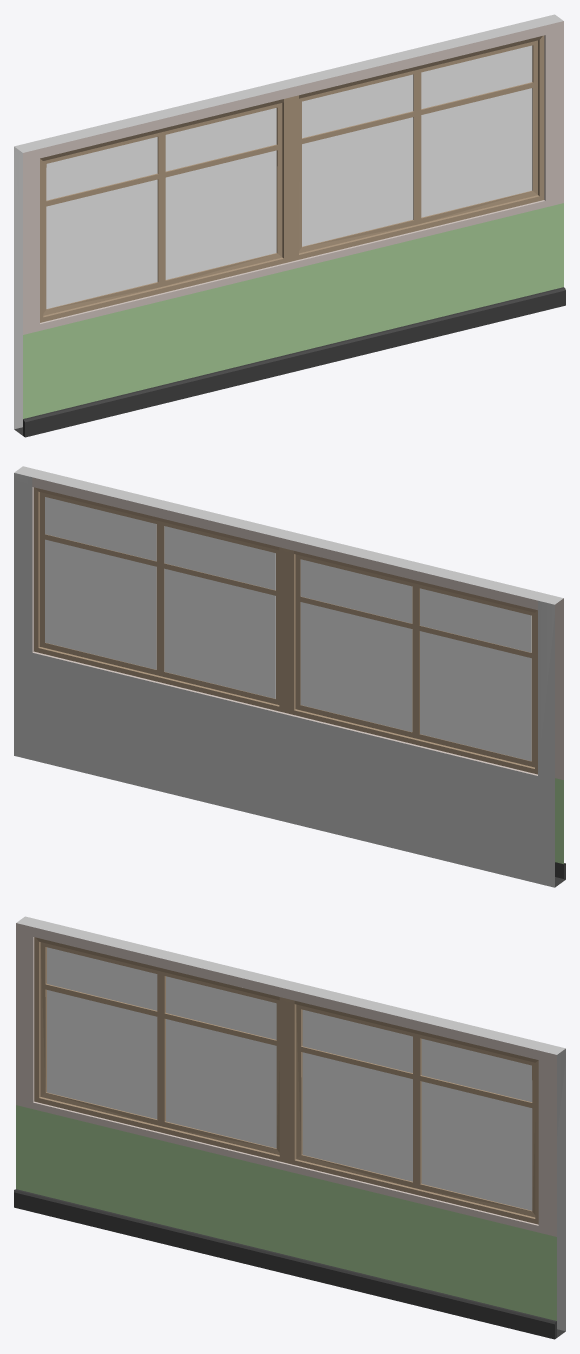
The model's file is Class_Window.fbx.
3 views of the same model, one above another, from view 1: azimuth 30°, elevation 25°; view 2: azimuth 150°, elevation 25°; view 3: azimuth 330°, elevation 25° (orthographic).
Parts seen in each view (by area): view 1: School_Window, Mirror.001; view 2: School_Window, Mirror.001; view 3: School_Window, Mirror.001.
Boxes of the visible parts, left/top/right/bottom form: School_Window: left=14, top=14, right=565, bottom=437; Mirror.001: left=46, top=45, right=532, bottom=308; School_Window: left=14, top=466, right=565, bottom=887; Mirror.001: left=45, top=497, right=531, bottom=760; School_Window: left=14, top=916, right=565, bottom=1339; Mirror.001: left=47, top=947, right=532, bottom=1210.
Size of the model in its own units: 501 by 250 by 17.83.
